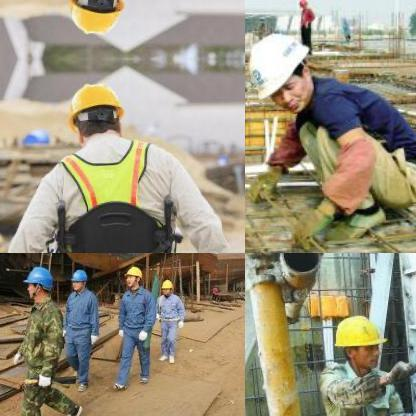Helmet: (245, 25, 318, 116), (59, 72, 133, 152), (330, 310, 387, 370), (58, 0, 134, 44), (22, 262, 54, 302), (70, 267, 88, 291), (124, 262, 140, 288), (158, 276, 172, 294), (296, 0, 310, 11)
